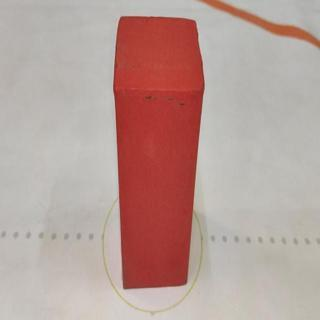redbox: (113, 13, 206, 288)
